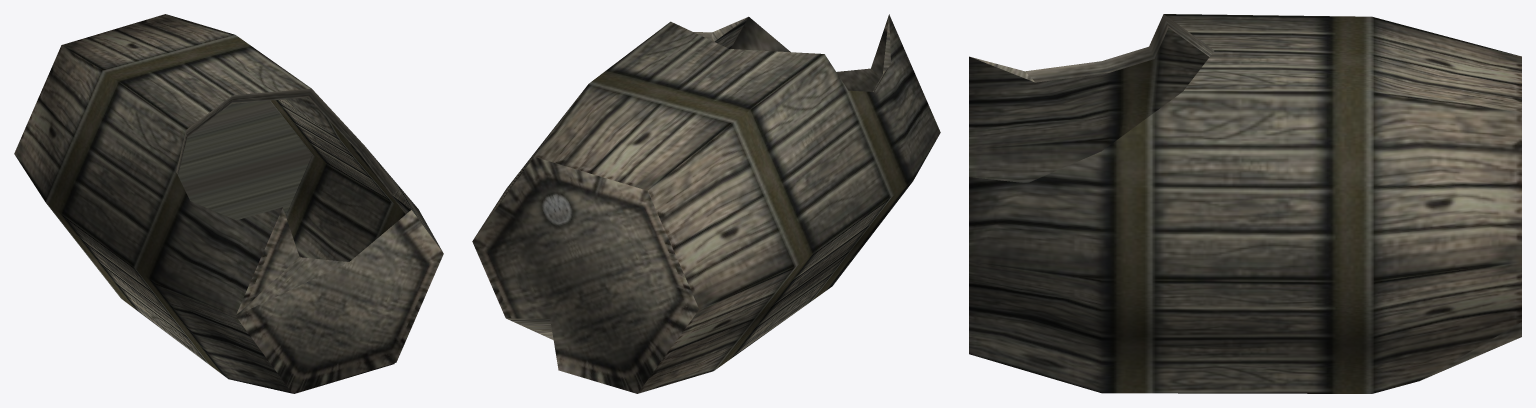
Rendered from pir_m_prp_cnt_barrelSideways_destroyed.fbx.
3 views of the same model, side by side, from view 1: azimuth 30°, elevation 25°; view 2: azimuth 150°, elevation 25°; view 3: azimuth 270°, elevation 25° (orthographic). The views are drawn at different scales.
Parts seen in each view (by area): view 1: lod_high; view 2: lod_high; view 3: lod_high.
Part boxes in pixels (x1,y1,x2,y2): lod_high: (14,14,443,393); lod_high: (472,14,940,393); lod_high: (969,14,1521,393).
Bounding box in the file's own units: 445 × 383 × 644.
Materials: 1 (1 with a texture image).
